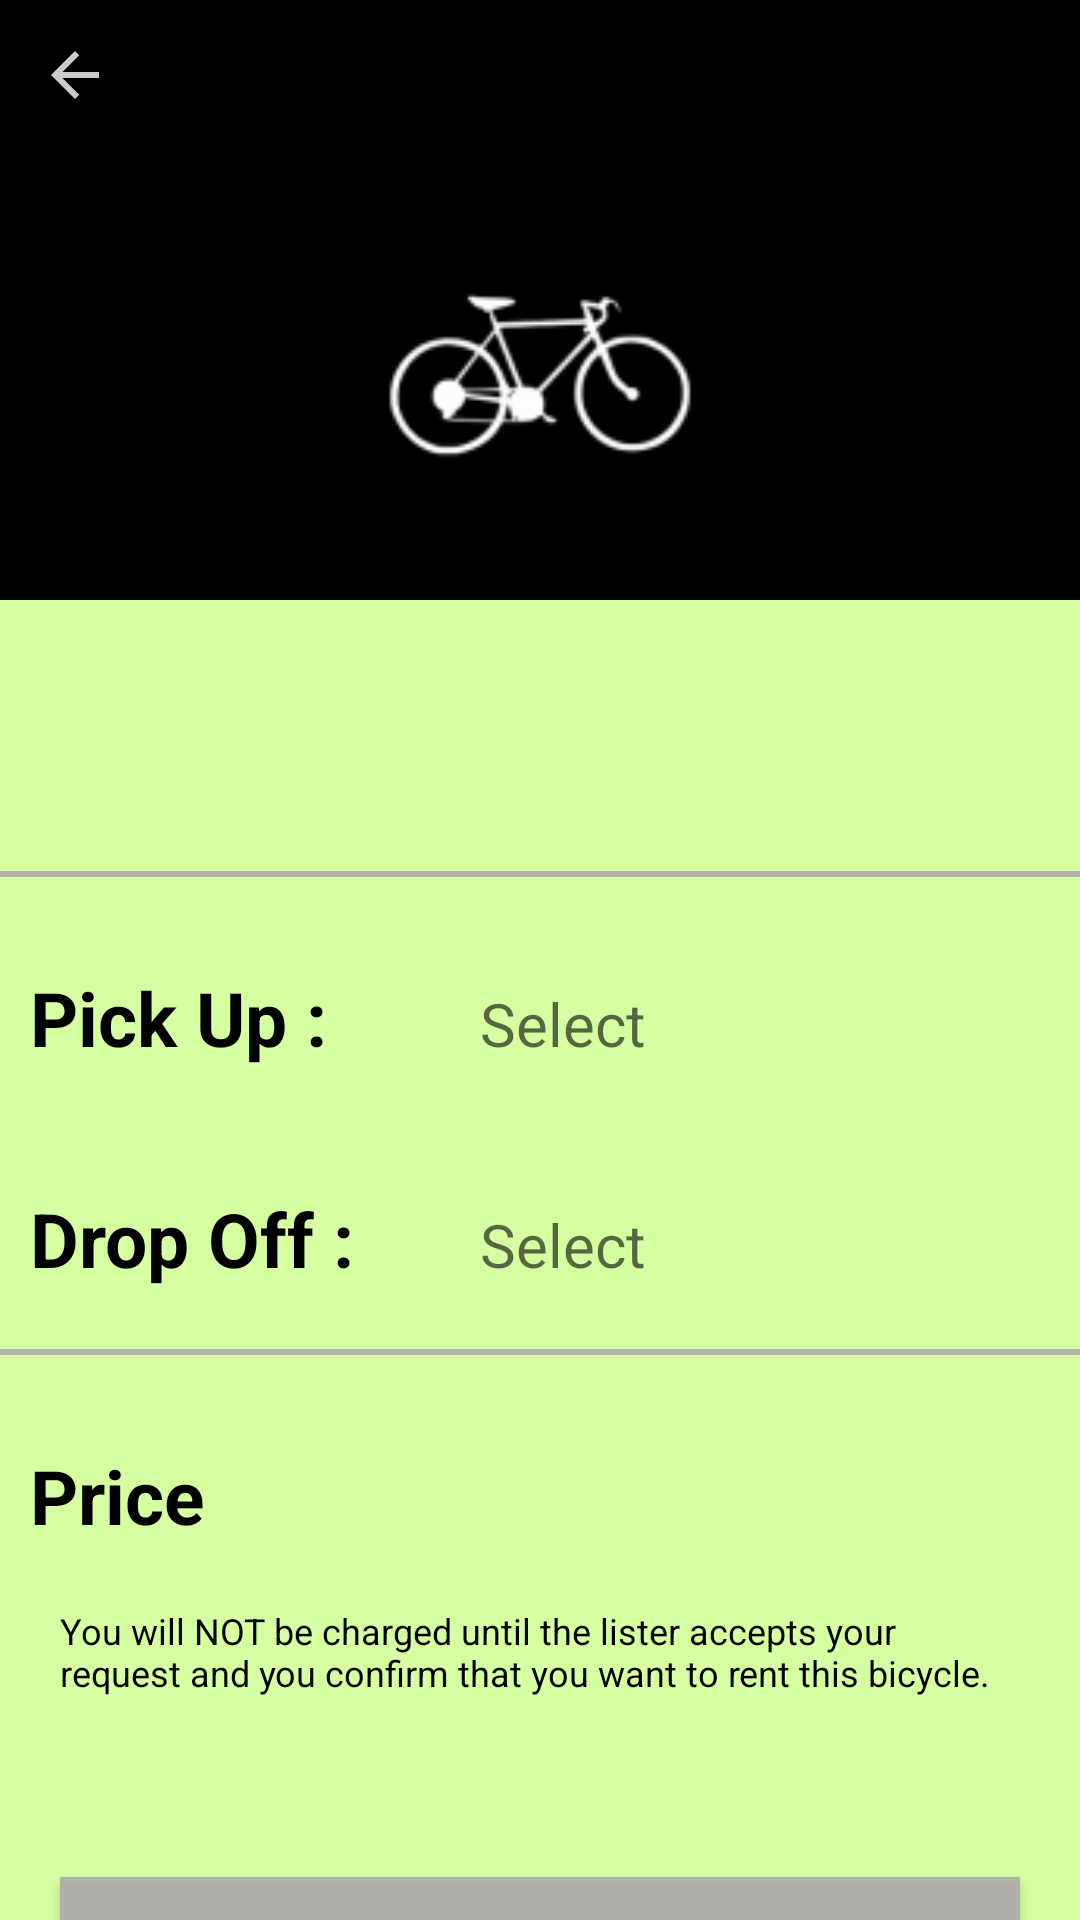

Where icons sit on this 1080w x 1920h app screen, as [x1=x1, y1=y1, x2=x2, y2=y2]:
arrow back: [x1=51, y1=51, x2=99, y2=99]
bike: [x1=389, y1=294, x2=691, y2=456]
